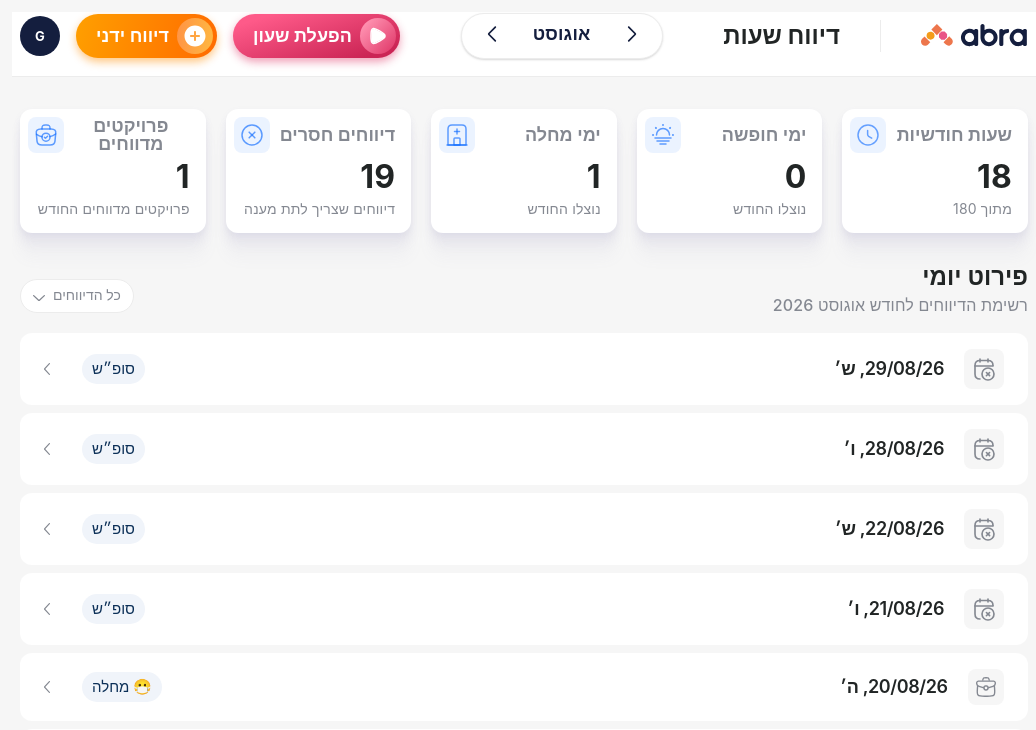
Test: Reports home shell › day-status filter › narrows the list to one status and names it on the pill
The width and height of the screenshot is (1036, 730).
Step 1. Click the button with test id "status-filter" → point(77, 296), box [20,279,134,313]
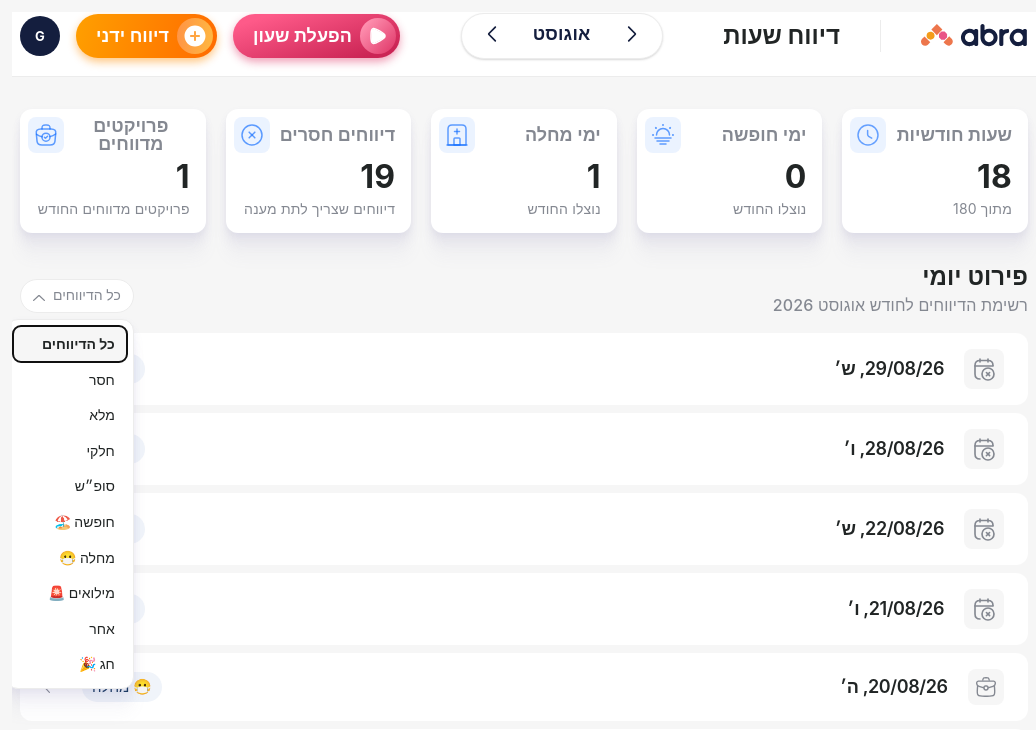
Step 2. Click the option "חסר" → point(70, 379), box [13,362,127,397]
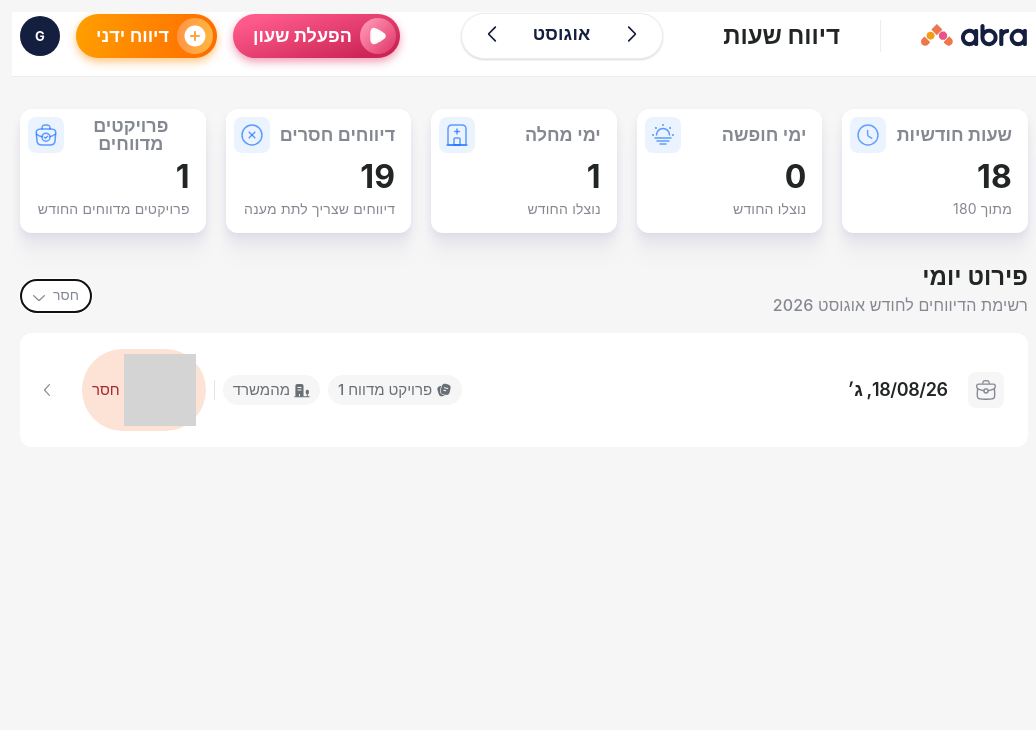
Expected: the button "18/08/26, ג׳ חסר מהמשרד 1 פרויקט מדווח" is shown, [20,333,1028,447]
Now the button with test id "status-filter" reads "חסר", box [20,279,92,313]
